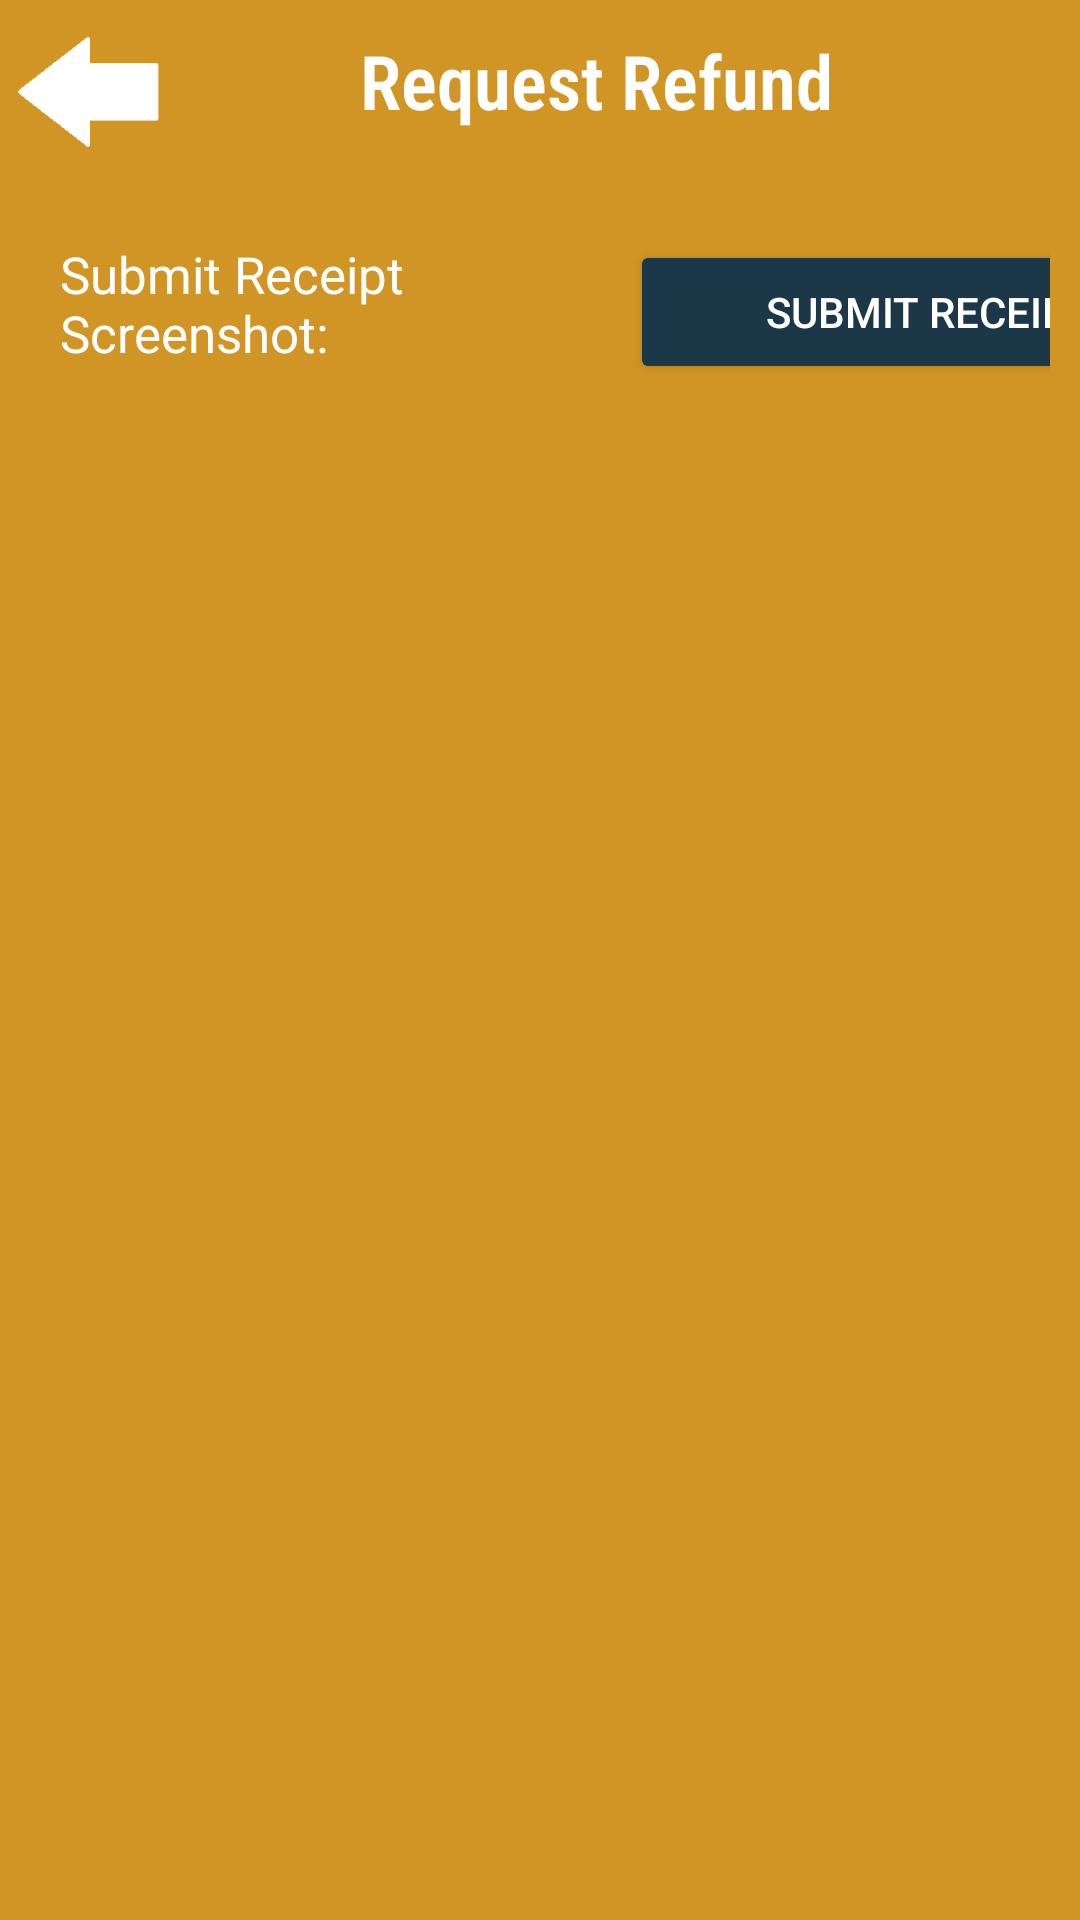

Locate icon controls on the screen. Image size 1080*1920, boxes as (x1,y1,x2,y2).
backarrow: (18,37,159,147)
